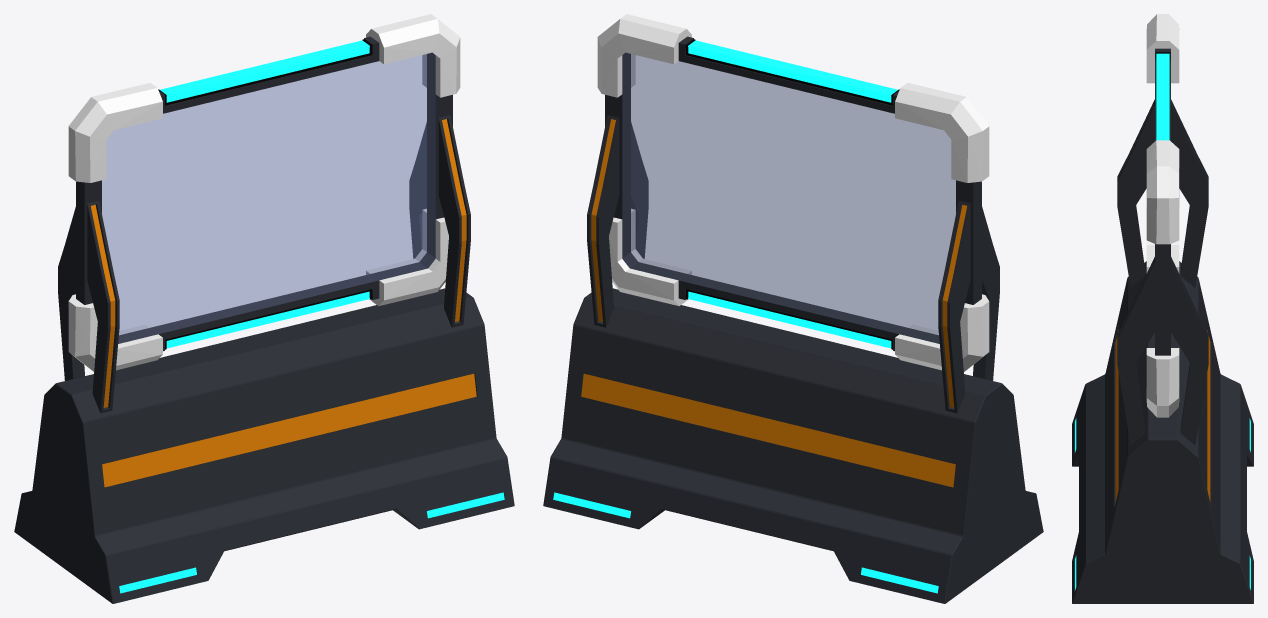
Rendered from SM_Defense_ShieldBarrier.fbx.
The picture shows the model from 3 angles, left to right: view 1: azimuth 30°, elevation 25°; view 2: azimuth 150°, elevation 25°; view 3: azimuth 270°, elevation 25°; orthographic projection. The views are drawn at different scales.
Parts seen in each view (by area): view 1: SM_Defense_ShieldBarrier; view 2: SM_Defense_ShieldBarrier; view 3: SM_Defense_ShieldBarrier.
Part boxes in pixels (x1,y1,x2,y2): SM_Defense_ShieldBarrier: (14, 14, 514, 603); SM_Defense_ShieldBarrier: (543, 14, 1043, 603); SM_Defense_ShieldBarrier: (1072, 14, 1253, 603).
Bounding box in the file's own units: 100 × 110 × 42.64.
